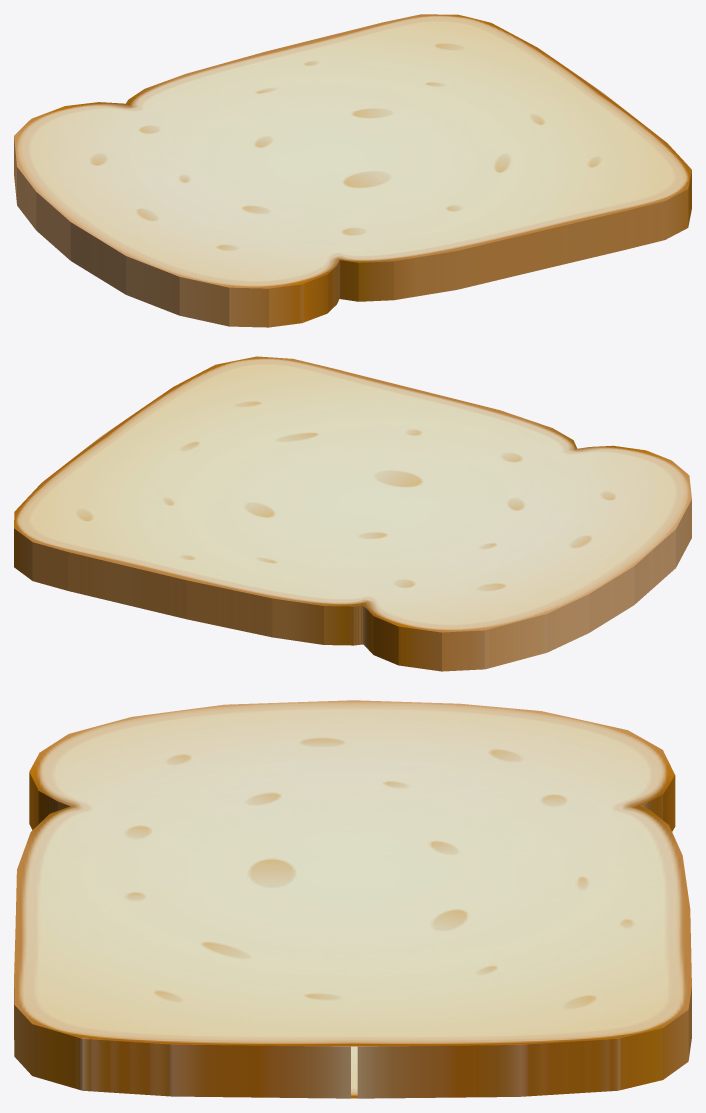
The model's file is Bread.fbx.
3 views of the same model, one above another, from view 1: azimuth 30°, elevation 25°; view 2: azimuth 150°, elevation 25°; view 3: azimuth 270°, elevation 25° (orthographic). The views are drawn at different scales.
Parts seen in each view (by area): view 1: Bread; view 2: Bread; view 3: Bread.
Part boxes in pixels (<box>): Bread: <box>14,14,691,327</box>; Bread: <box>14,356,691,671</box>; Bread: <box>14,700,691,1098</box>.
Bounding box in the file's own units: 13.36 × 0.9344 × 11.05.
